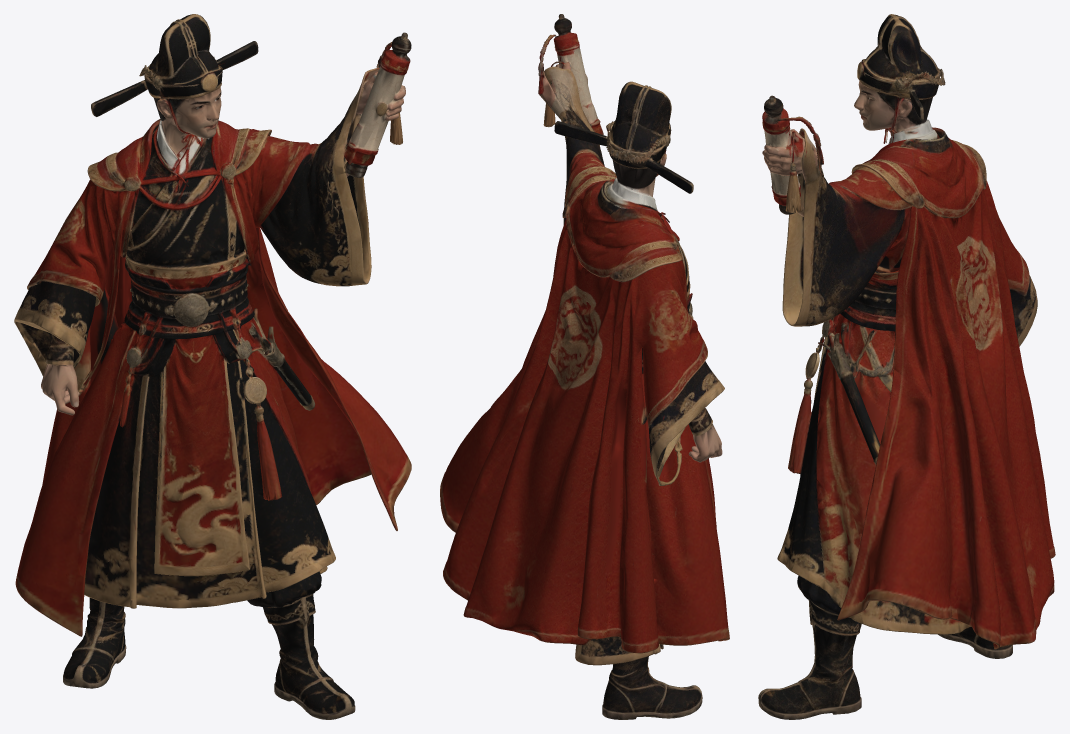
Rendered from Meshy_AI_Imperial_Envoy_texture_remesh_tri.glb.
3 renders of one model, left to right at view 1: azimuth 30°, elevation 25°; view 2: azimuth 150°, elevation 25°; view 3: azimuth 270°, elevation 25°, orthographic. The views are drawn at different scales.
Bounding box in the file's own units: 1.04 × 1.89 × 0.7829.
1 material, 1 textured.
